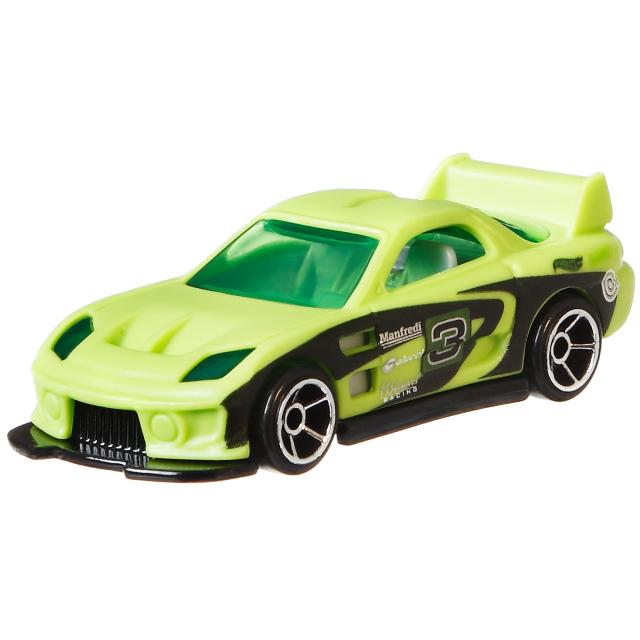Car: (8, 152, 635, 482)
